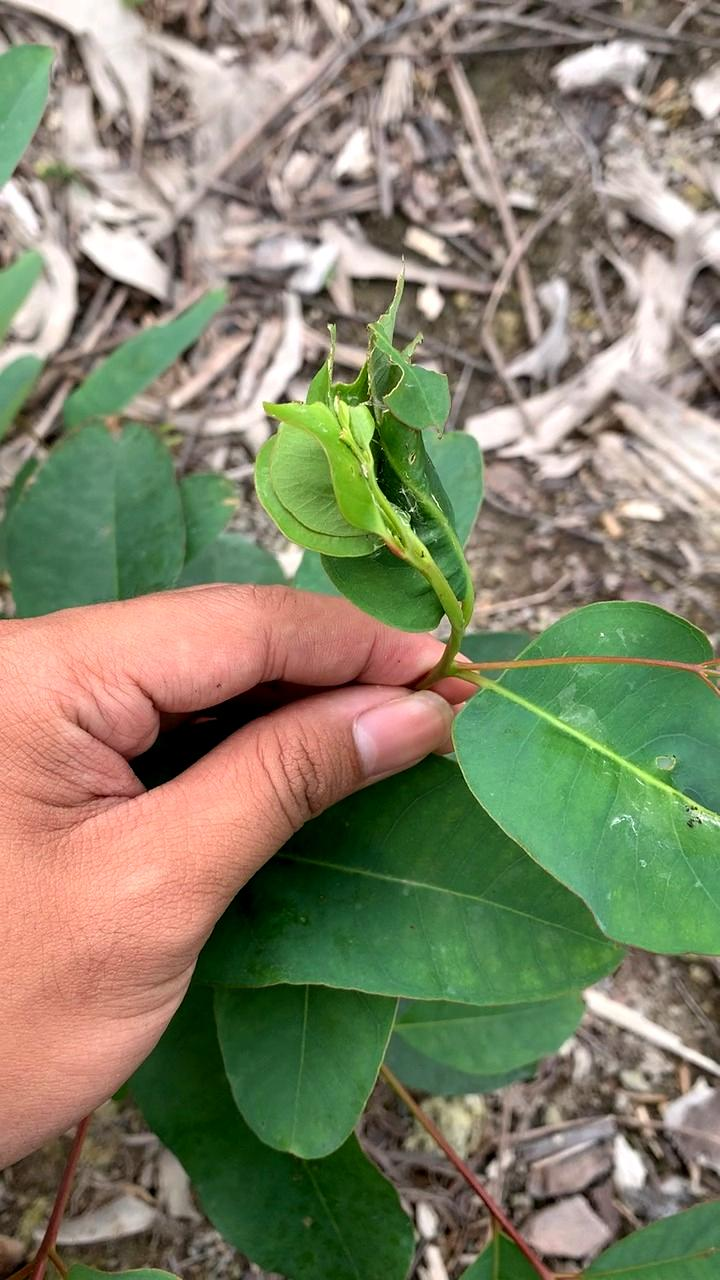Leaf Roller - Leaf: (238, 308, 511, 634)
